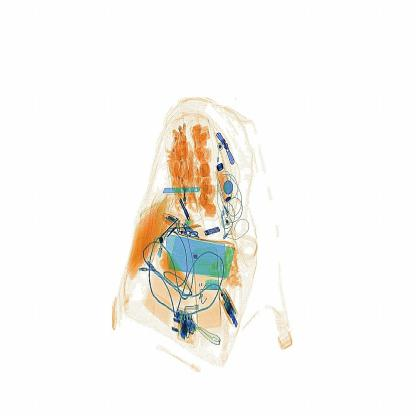pliers: (160, 178, 215, 201)
